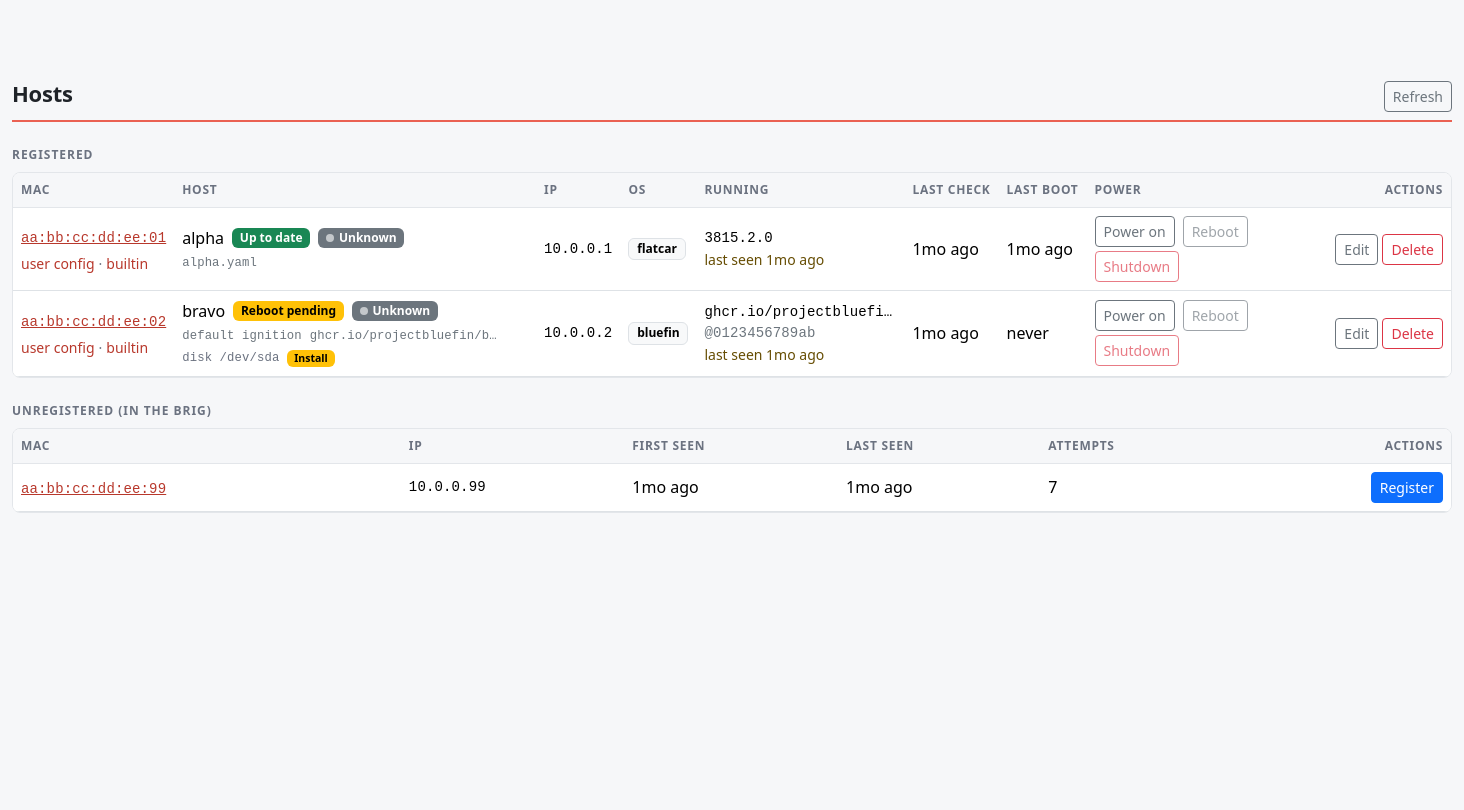
Test case: HostsView › keeps edit mode open and shows the server error when save fails
Click the button "Edit" in the row of "aa:bb:cc:dd:ee:01". click: (1357, 249)
box: [1335,234,1378,264]
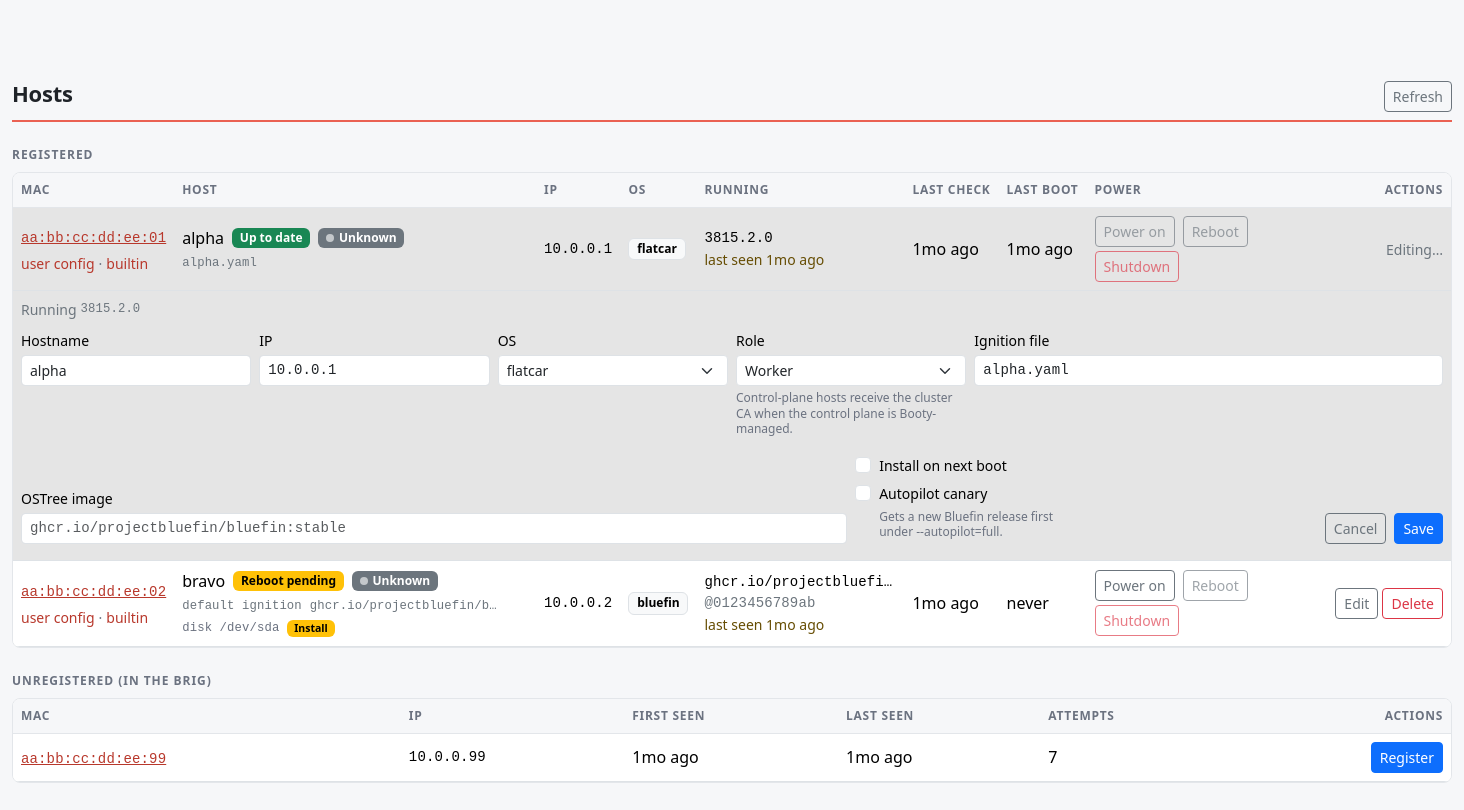
Now the row that starts with "Running" is shown, box [13,290,1451,560]
Replace the text in the field labelled "Hostname" with "alpha-renamed". click: (136, 370)
box: [21,355,251,386]
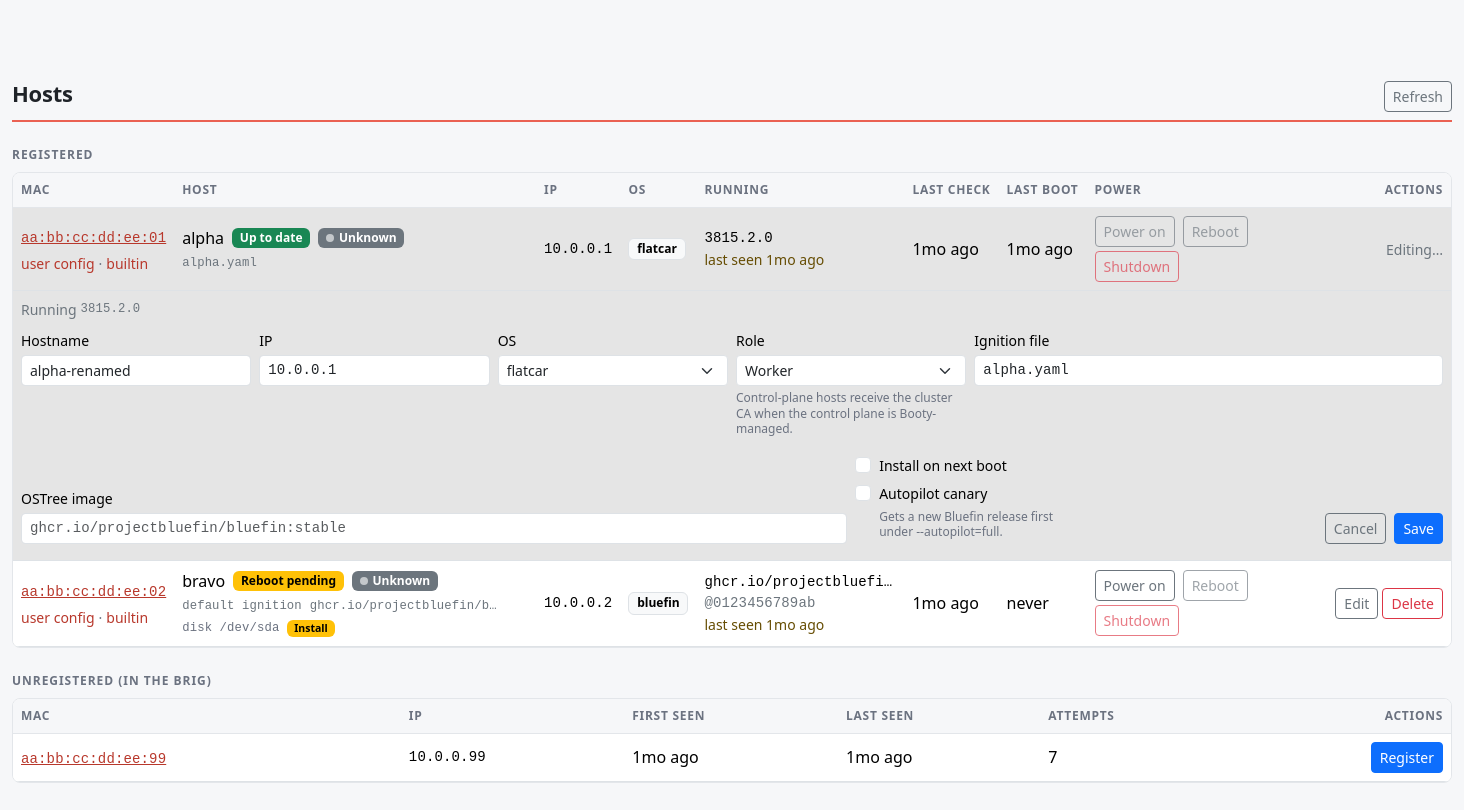
Submit the form, box [21,291,1443,552]
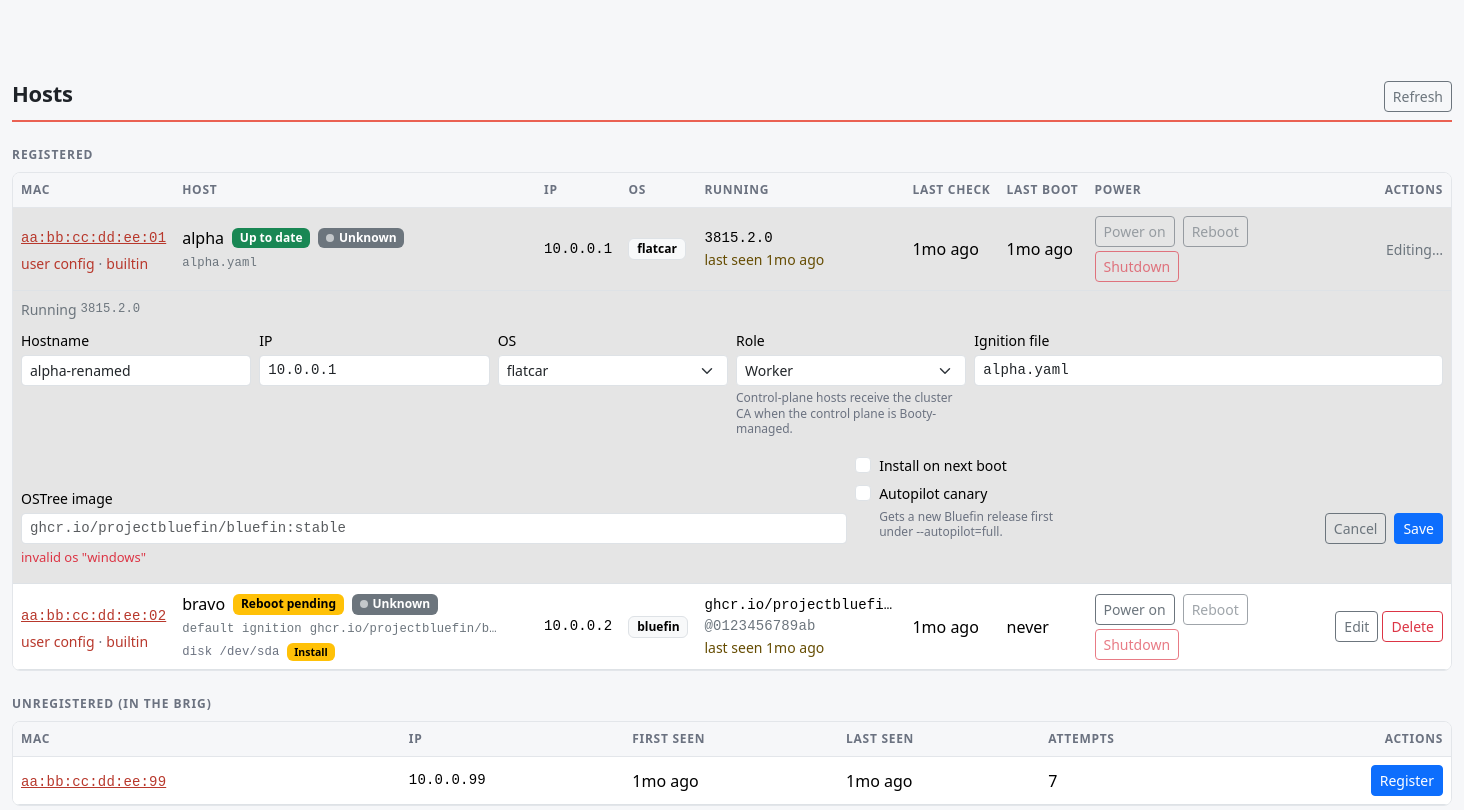
Expected: the row that starts with "aa:bb:cc:dd:ee:01" shows "alpha", [182,227,224,249]
Now the row that starts with "Running" is shown, box [13,290,1451,584]
Now the text with test id "row-error" reads "invalid os \"windows\"", box [21,548,146,566]
